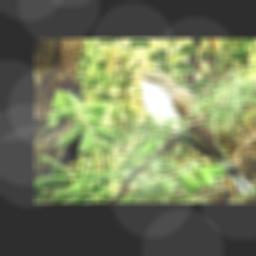Cuckoo: (125, 70, 253, 191)
